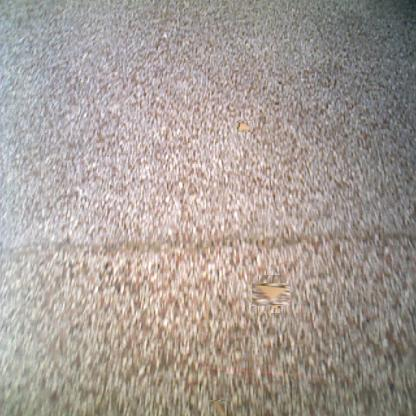dirty: (256, 278, 286, 310), (208, 400, 226, 416), (236, 120, 252, 132)
